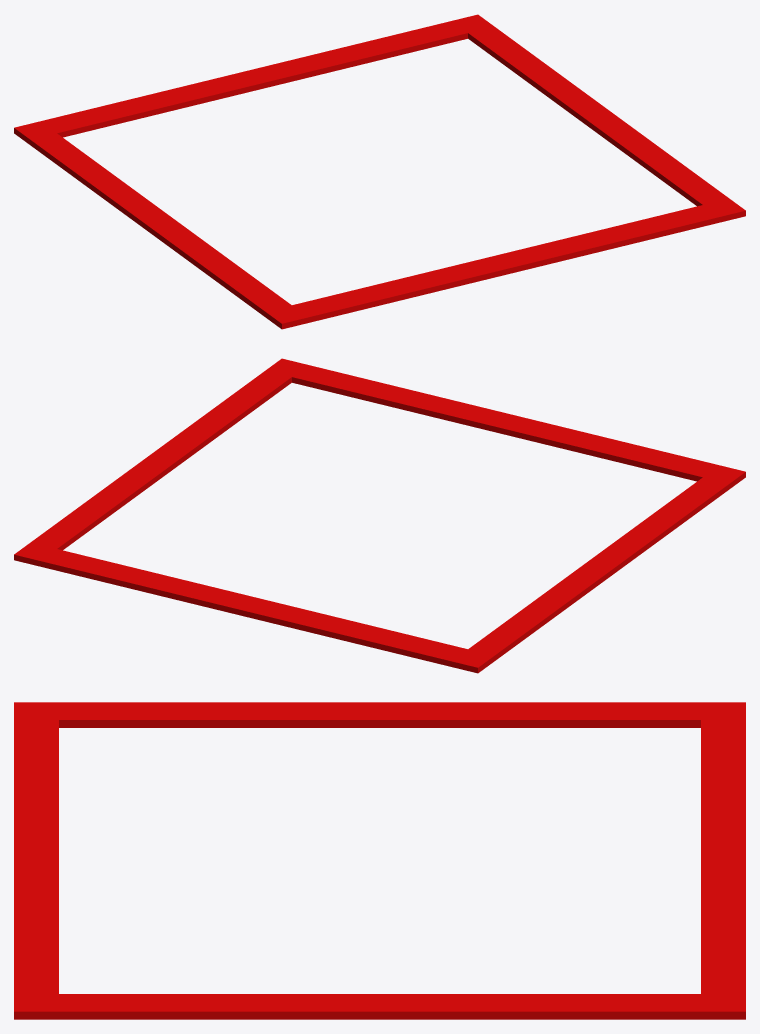
The model's file is Square fbx.fbx.
3 views of the same model, one above another, from view 1: azimuth 30°, elevation 25°; view 2: azimuth 150°, elevation 25°; view 3: azimuth 270°, elevation 25° (orthographic). The views are drawn at different scales.
Parts seen in each view (by area): view 1: pCube2; view 2: pCube2; view 3: pCube2.
Part boxes in pixels (x1,y1,x2,y2): pCube2: (14,14,745,329); pCube2: (14,358,745,673); pCube2: (14,702,745,1019).
Bounding box in the file's own units: 1.68 × 0.0196 × 1.68.
